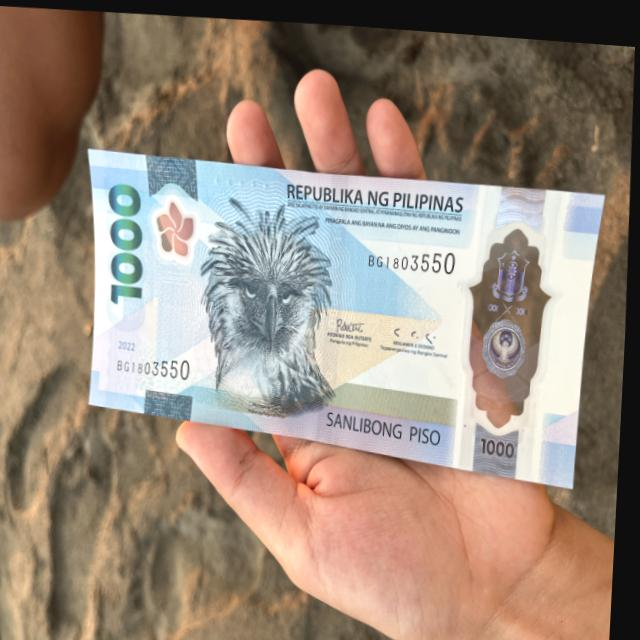clear_window: (433, 173, 578, 481)
eagle: (184, 180, 353, 432)
sampaguita: (150, 183, 204, 269)
